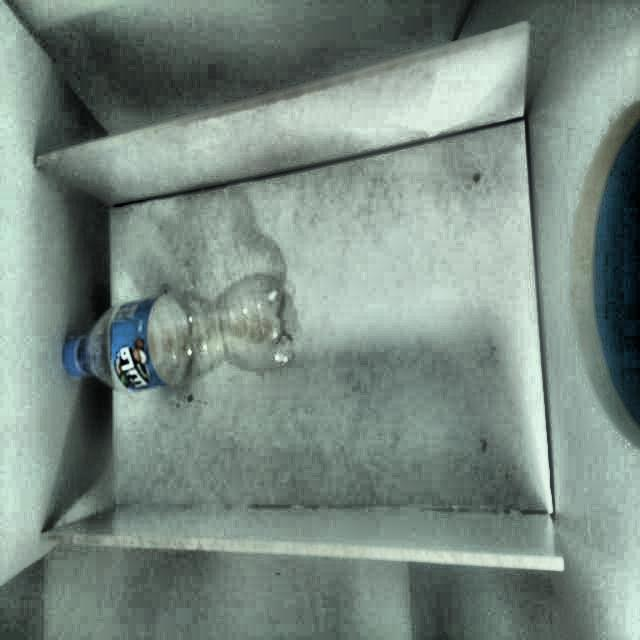plastic bottle: (62, 274, 301, 392)
